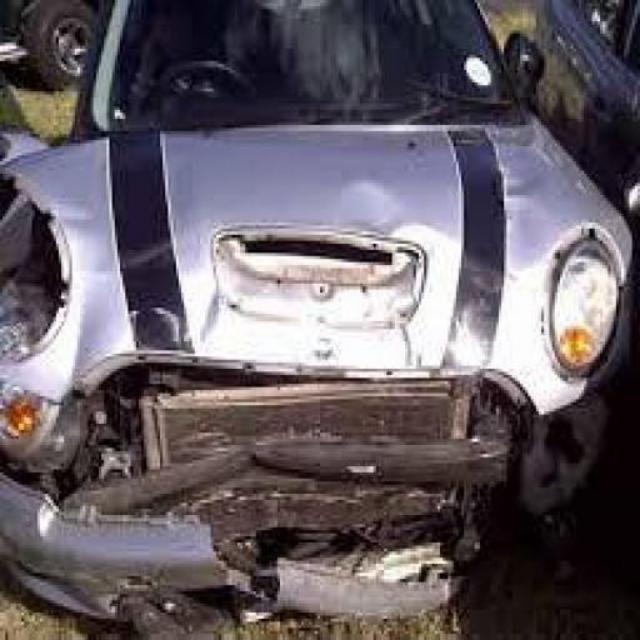dent: (342, 184, 412, 236), (200, 292, 235, 351)
glass shatter: (1, 0, 596, 136)
lamp broken: (3, 173, 73, 365)
no part: (55, 361, 589, 636)
